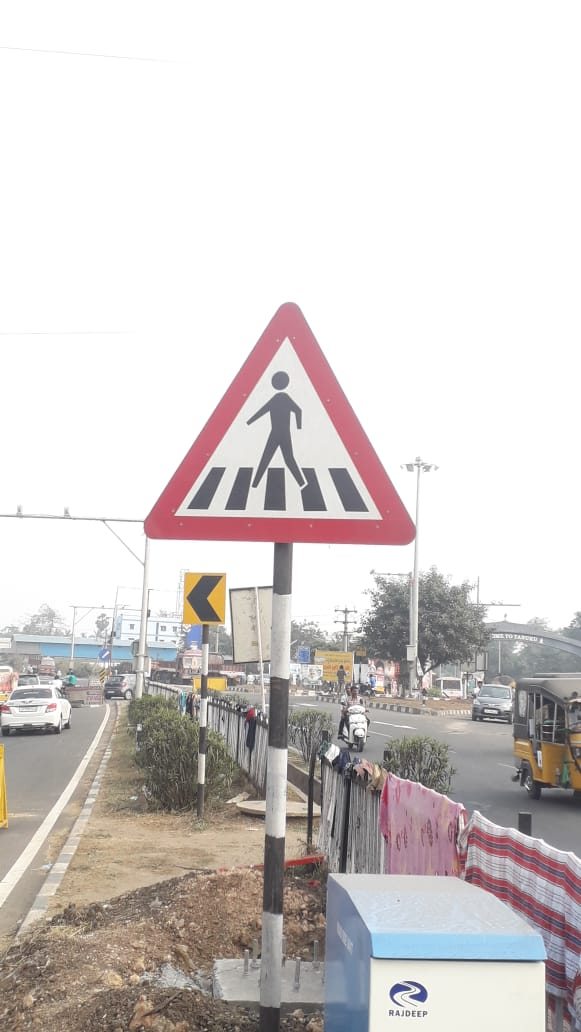pedestrian crossing: (146, 280, 422, 550)
